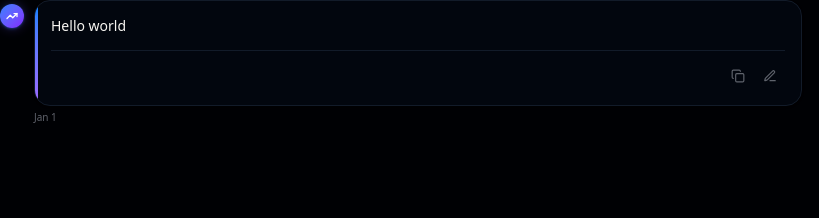
ChatMessage — edit mode › shows Save and Cancel buttons in edit mode
The image size is (819, 218).
Click the button titled "Edit message": (770, 76) 755,61 -> 785,91
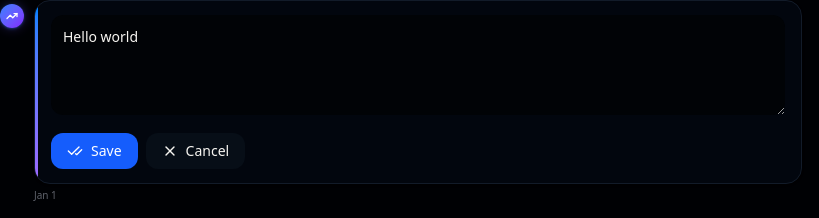
Expected: the button "Save" is shown, 51,133 -> 138,169
Expected: the button "Cancel" is shown, 146,133 -> 245,169
